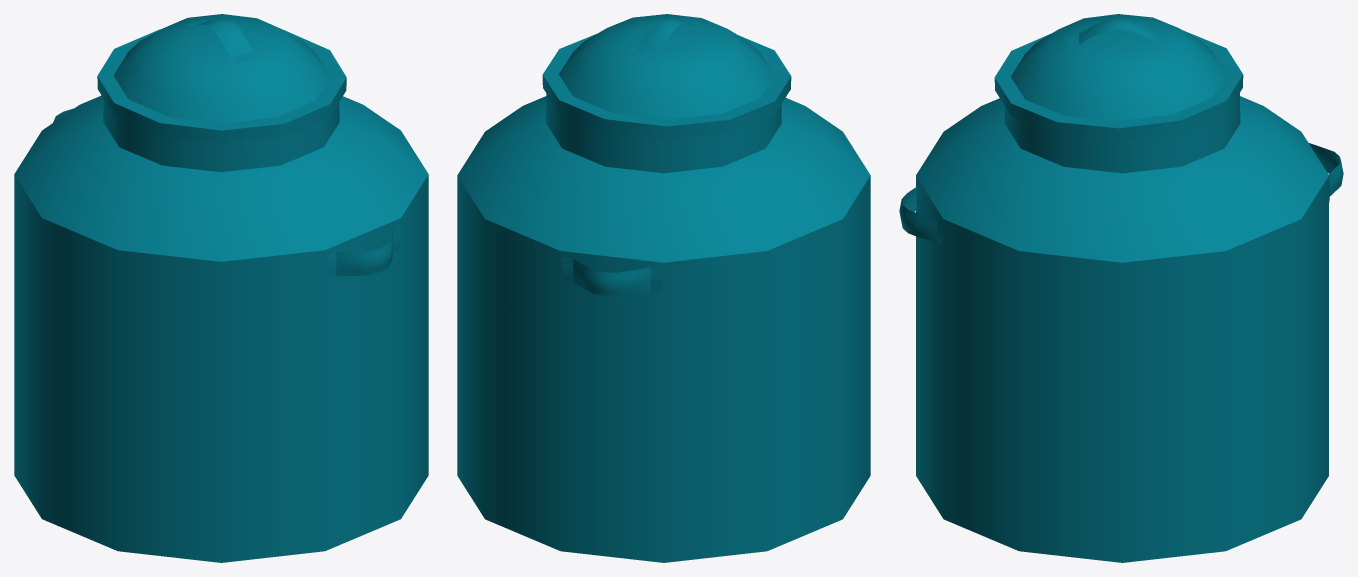
The model's file is container_B_base.FBX.
3 renders of one model, left to right at view 1: azimuth 30°, elevation 25°; view 2: azimuth 150°, elevation 25°; view 3: azimuth 270°, elevation 25°, orthographic.
Parts seen in each view (by area): view 1: container_B_base; view 2: container_B_base; view 3: container_B_base.
Part boxes in pixels (x1,y1,x2,y2): container_B_base: [14, 14, 428, 562]; container_B_base: [457, 14, 870, 562]; container_B_base: [899, 14, 1343, 562].
Bounding box in the file's own units: 92.86 × 112 × 99.82.
